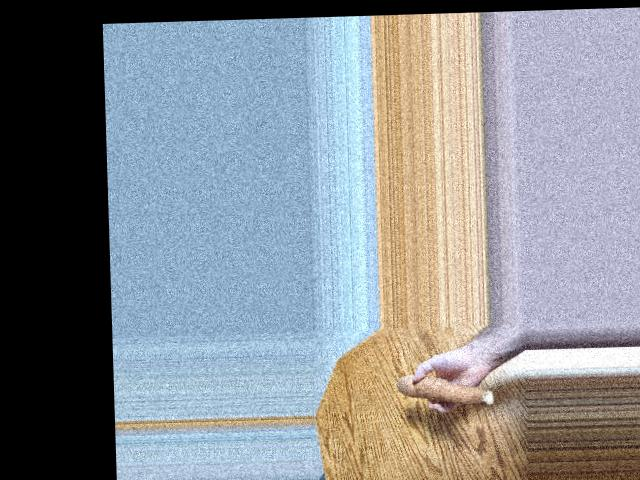sweet_potato: (392, 376, 501, 410)
